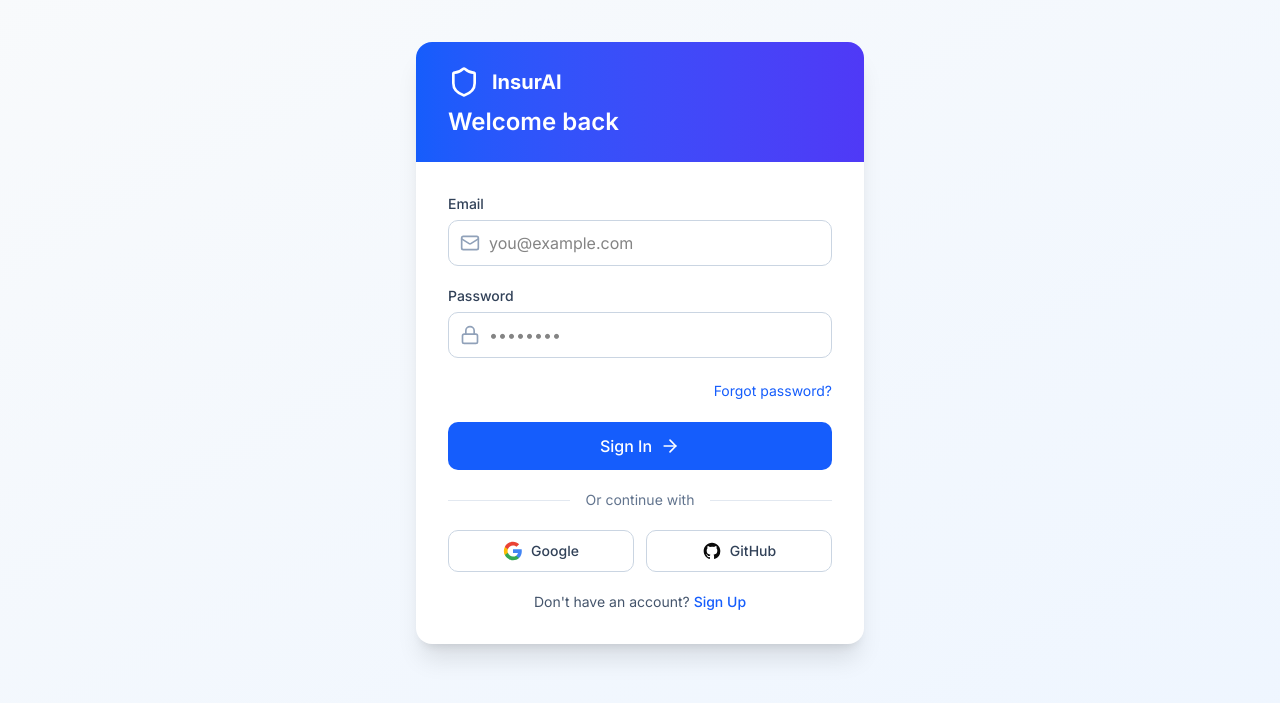
Test case: AuthPage › mode toggling › switches back to signin mode
What coordinates should you click on to do the following:
click the button "Sign Up"
I would click on:
 (720, 602)
Its box is [694,592,746,612].
(page scrolled)
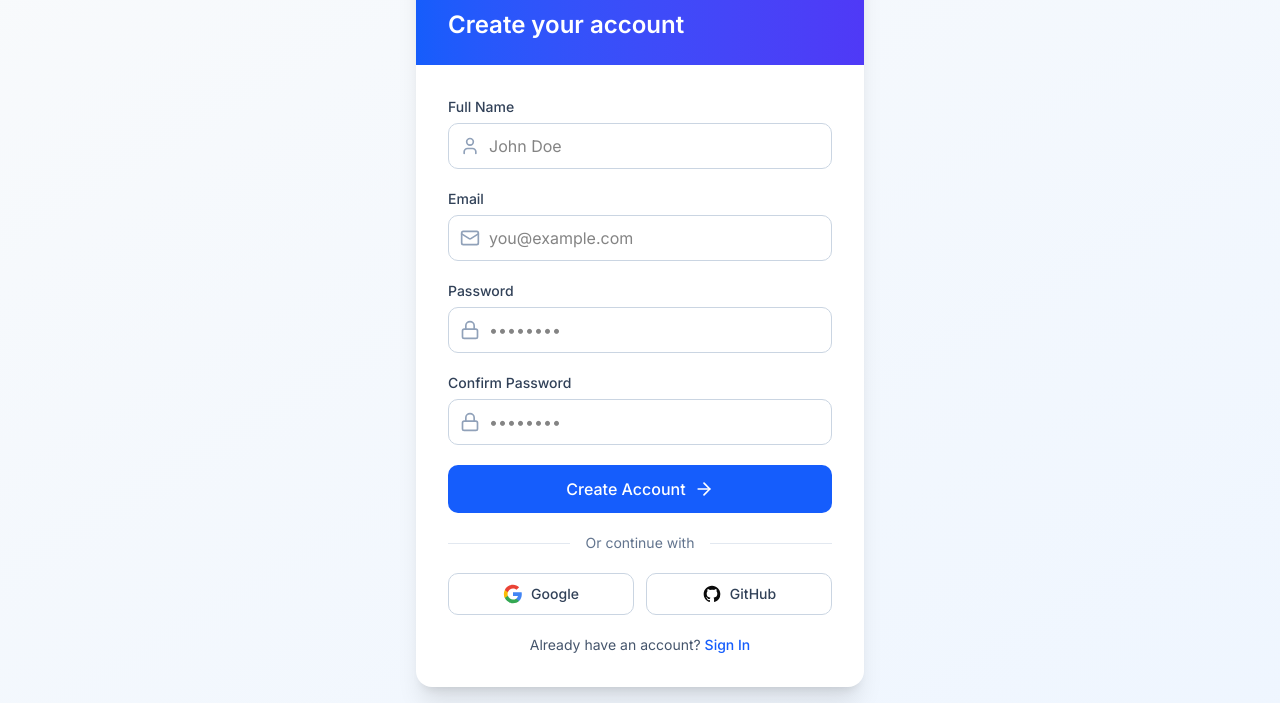
Note: Now in signup mode, click sign in link
What coordinates should you click on to do the following:
click the button "Sign In"
I would click on:
 (727, 645)
Its box is [705,635,750,655].
(page scrolled)
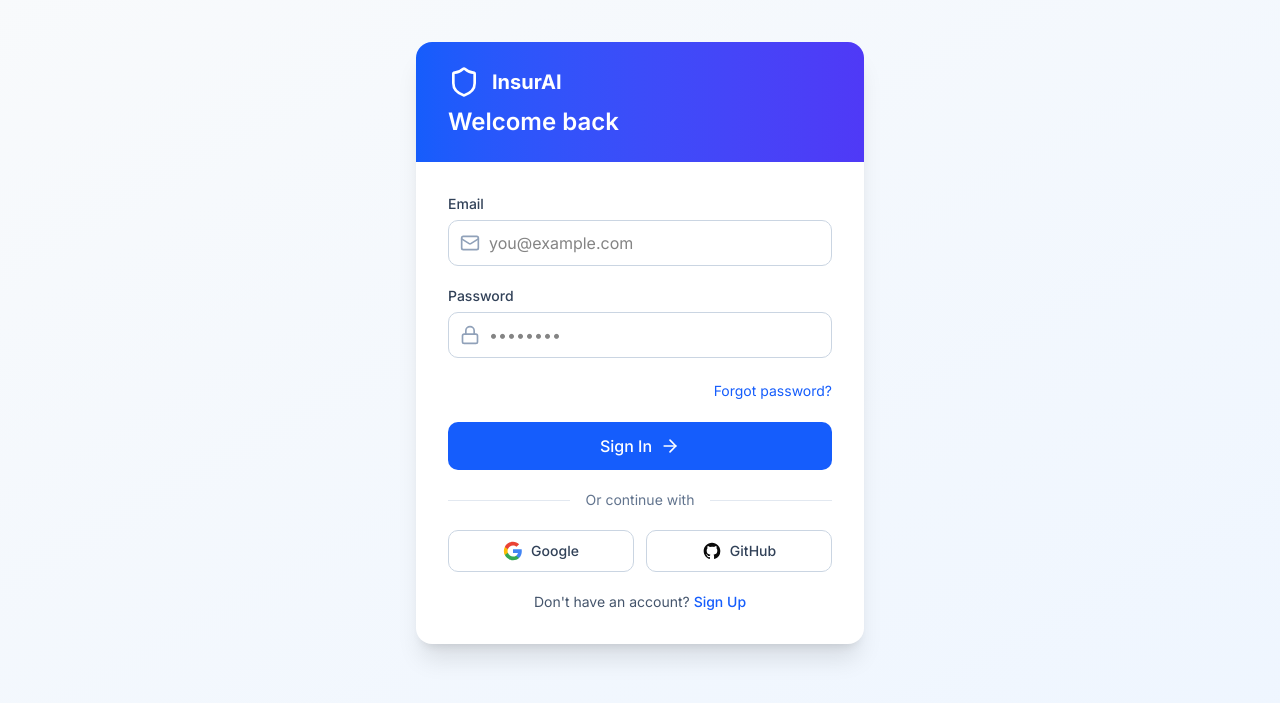
Check: the heading "Welcome back" is shown, box [448,107,619,136]
